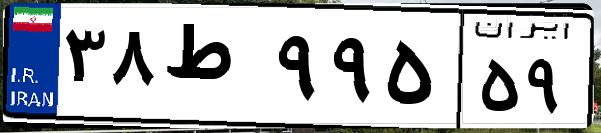3: (57, 26, 110, 100)
5: (385, 28, 445, 110), (475, 38, 525, 113)
8: (110, 28, 158, 98)
9: (270, 28, 330, 110), (330, 28, 385, 110), (525, 38, 570, 115)
ط: (158, 20, 270, 120)
